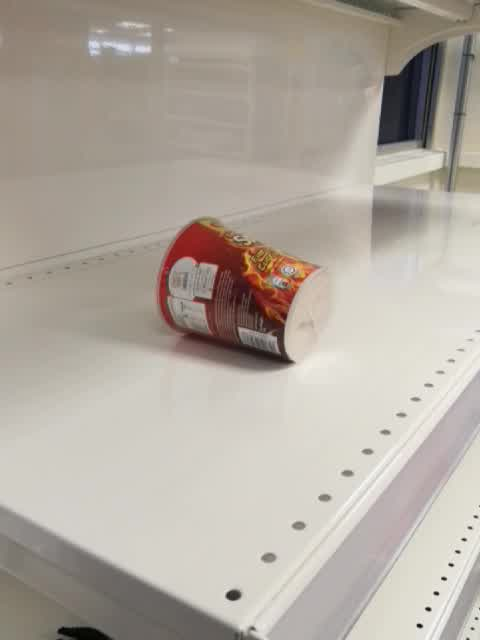maggi: (155, 216, 333, 366)
